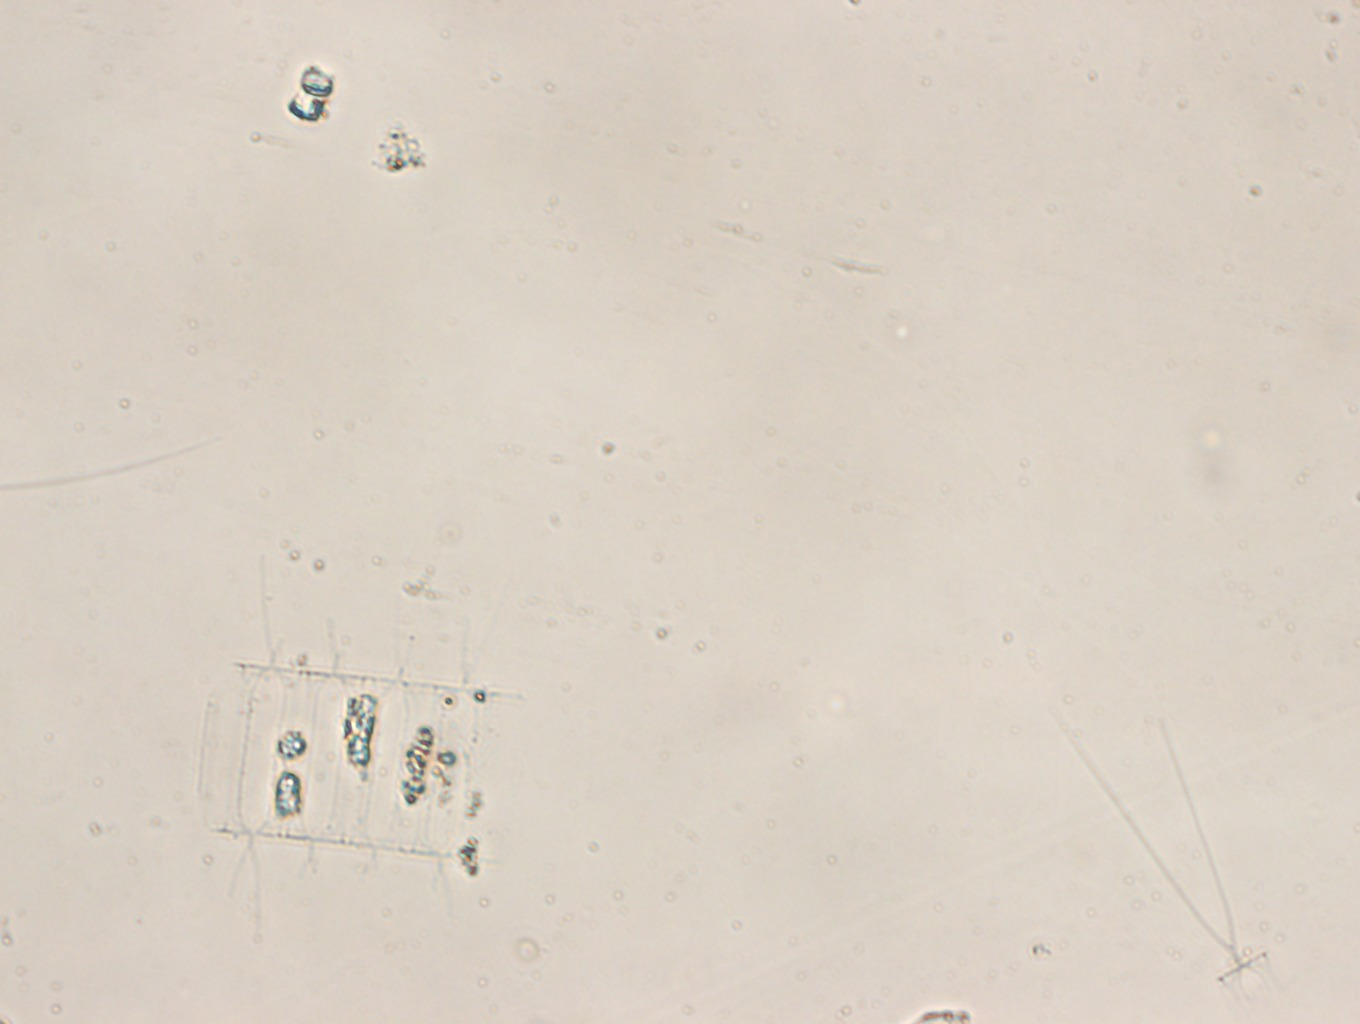chaetoceros: (175, 529, 527, 959)
